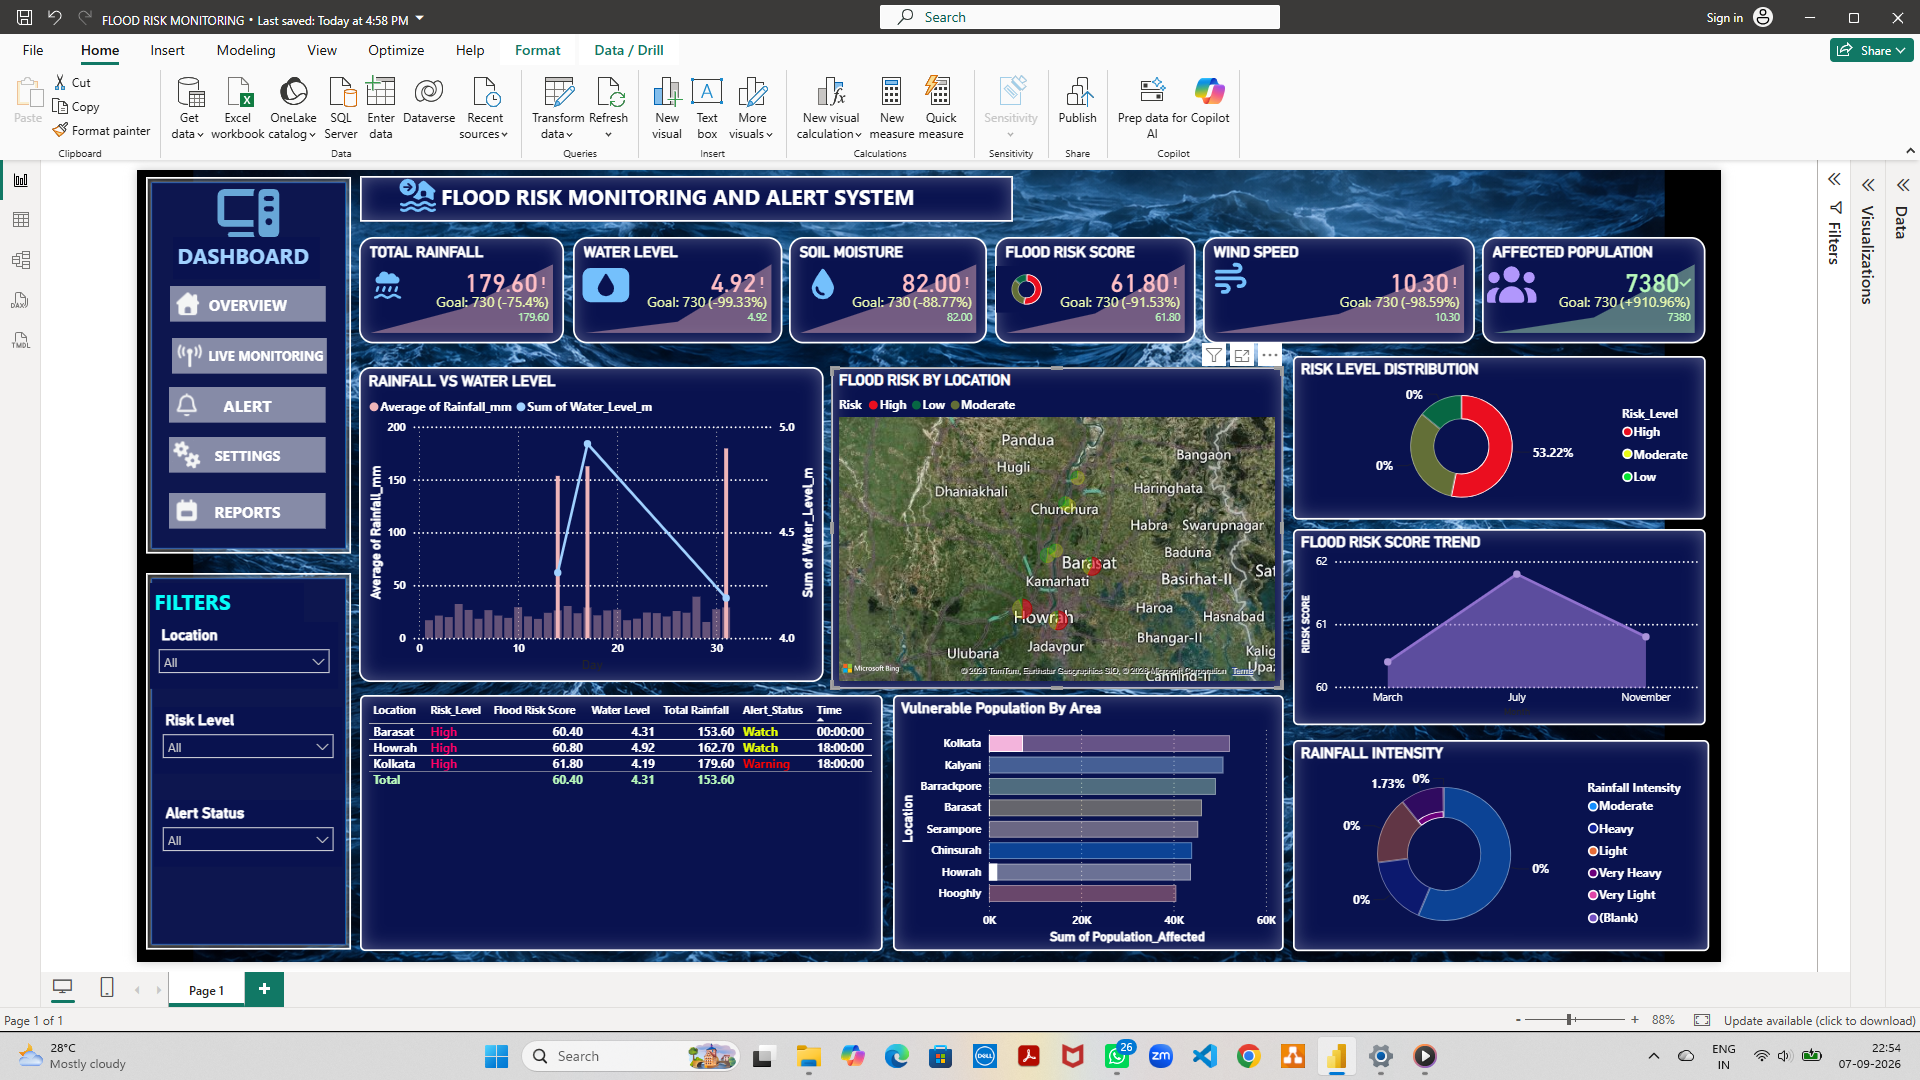

This screenshot's page, from the dashboard's own definition file:
{"tool":"powerbi","page":{"name":"Page 1","canvas":[1800,900],"ordinal":0},"visuals":[{"type":"textbox","box":[253.6,7.1,742.2,52.3],"z":0},{"type":"stackedAreaChart","title":"FLOOD RISK SCORE TREND","fields":{"Category":["Smart_Flood_Risk_Dataset.Date.Variation.Date Hierarchy.Month"],"Y":["Smart_Flood_Risk_Dataset.Flood Risk Score"]},"box":[1313.8,407.5,468.8,222.5],"z":1000},{"type":"donutChart","title":"RISK LEVEL DISTRIBUTION","fields":{"Category":["Smart_Flood_Risk_Dataset.Risk_Level"],"Y":["Smart_Flood_Risk_Dataset.Flood Risk Score"]},"box":[1313.8,211.2,468.8,186.2],"z":2000},{"type":"donutChart","title":"RAINFALL INTENSITY","fields":{"Y":["Sum(Smart_Flood_Risk_Dataset.Rainfall_mm)"],"Category":["Smart_Flood_Risk_Dataset.Rainfall Intensity"]},"box":[1313.8,647.5,472.5,240],"z":3000},{"type":"lineClusteredColumnComboChart","title":"RAINFALL VS WATER LEVEL","fields":{"Y":["Avg(Smart_Flood_Risk_Dataset.Rainfall_mm)"],"Category":["Smart_Flood_Risk_Dataset.Date.Variation.Date Hierarchy.Day"],"Y2":["Sum(Smart_Flood_Risk_Dataset.Water_Level_m)"]},"box":[252.5,223.8,527.5,357.5],"z":4000},{"type":"tableEx","fields":{"Values":["Smart_Flood_Risk_Dataset.Location","Smart_Flood_Risk_Dataset.Risk_Level","Smart_Flood_Risk_Dataset.Flood Risk Score","Smart_Flood_Risk_Dataset.Water Level","Smart_Flood_Risk_Dataset.Total Rainfall","Smart_Flood_Risk_Dataset.Alert_Status","Smart_Flood_Risk_Dataset.Time"]},"box":[253.8,596.2,593.8,291.2],"z":5000},{"type":"barChart","title":"Vulnerable Population By Area","fields":{"Y":["Sum(Smart_Flood_Risk_Dataset.Population_Affected)"],"Category":["Smart_Flood_Risk_Dataset.Location"]},"box":[858.8,596.2,443.8,291.2],"z":6000},{"type":"map","title":"FLOOD RISK BY LOCATION","fields":{"Category":["Smart_Flood_Risk_Dataset.Location"],"Y":["Avg(Smart_Flood_Risk_Dataset.Latitude)"],"X":["Avg(Smart_Flood_Risk_Dataset.Longitude)"],"Series":["Smart_Flood_Risk_Dataset.Risk_Level"],"Size":["Smart_Flood_Risk_Dataset.Flood Risk Score"]},"box":[788.8,223.8,513.8,366.2],"z":7000},{"type":"kpi","title":"TOTAL RAINFALL","fields":{"Indicator":["Sum(Smart_Flood_Risk_Dataset.Rainfall_mm)"],"TrendLine":["Smart_Flood_Risk_Dataset.Rainfall_mm"],"Goal":["CountNonNull(Smart_Flood_Risk_Dataset.Date.Variation.Date Hierarchy.Day)"]},"box":[252.5,76.2,232.5,121.2],"z":8000},{"type":"kpi","title":"WATER LEVEL ","fields":{"Indicator":["Avg(Smart_Flood_Risk_Dataset.Water_Level_m)"],"TrendLine":["Smart_Flood_Risk_Dataset.Water_Level_m"],"Goal":["CountNonNull(Smart_Flood_Risk_Dataset.Date.Variation.Date Hierarchy.Day)"]},"box":[495,76.2,237.5,121.2],"z":9000},{"type":"kpi","title":"SOIL MOISTURE","fields":{"Indicator":["Avg(Smart_Flood_Risk_Dataset.Soil_Moisture_pct)"],"TrendLine":["Smart_Flood_Risk_Dataset.Soil_Moisture_pct"],"Goal":["CountNonNull(Smart_Flood_Risk_Dataset.Date.Variation.Date Hierarchy.Day)"]},"box":[741.2,76.2,225,121.2],"z":10000},{"type":"kpi","title":"FLOOD RISK SCORE","fields":{"Indicator":["Sum(Smart_Flood_Risk_Dataset.Flood_Risk_Score)"],"Goal":["CountNonNull(Smart_Flood_Risk_Dataset.Date.Variation.Date Hierarchy.Day)"],"TrendLine":["Smart_Flood_Risk_Dataset.Flood_Risk_Score"]},"box":[975,76.2,227.5,121.2],"z":11000},{"type":"kpi","title":"WIND SPEED","fields":{"Indicator":["Sum(Smart_Flood_Risk_Dataset.Wind_Speed_kmh)"],"TrendLine":["Smart_Flood_Risk_Dataset.Wind_Speed_kmh"],"Goal":["CountNonNull(Smart_Flood_Risk_Dataset.Date.Variation.Date Hierarchy.Day)"]},"box":[1211.2,76.2,308.8,121.2],"z":12000},{"type":"kpi","title":"AFFECTED POPULATION","fields":{"Indicator":["Sum(Smart_Flood_Risk_Dataset.Population_Affected)"],"TrendLine":["Smart_Flood_Risk_Dataset.Population_Affected"],"Goal":["CountNonNull(Smart_Flood_Risk_Dataset.Date.Variation.Date Hierarchy.Day)"]},"box":[1528.8,76.2,253.8,121.2],"z":13000},{"type":"shape","box":[9.9,7.4,233.3,428.4],"z":14000},{"type":"shape","box":[9.9,458,233.3,428.4],"z":15000},{"type":"image","box":[87.7,0,77.8,97.5],"z":16000},{"type":"textbox","box":[40.7,76.5,166.7,48.1],"z":17000},{"type":"textbox","box":[15.2,469.6,174.7,49.4],"z":18000},{"type":"slicer","fields":{"Values":["Smart_Flood_Risk_Dataset.Location"]},"box":[15.2,513.9,213.9,75.9],"z":19000},{"type":"slicer","fields":{"Values":["Smart_Flood_Risk_Dataset.Risk_Level"]},"box":[19,610.1,213.9,75.9],"z":20000},{"type":"slicer","fields":{"Values":["Smart_Flood_Risk_Dataset.Alert_Status"]},"box":[19,716.5,213.9,75.9],"z":21000},{"type":"image","box":[284.8,7.6,68.4,41.8],"z":22000},{"type":"image","box":[753.2,108.9,51.9,41.8],"z":23000},{"type":"image","box":[503.8,84.8,59.5,93.7],"z":24000},{"type":"image","box":[251.9,111.4,64.6,39.2],"z":25000},{"type":"image","box":[1202.5,101.3,81,44.3],"z":26000},{"type":"donutChart","title":"RISK LEVEL DISTRIBUTION","fields":{"Category":["Smart_Flood_Risk_Dataset.Risk_Level"],"Y":["Smart_Flood_Risk_Dataset.Flood Risk Score"]},"box":[975.9,108.9,69.6,53.2],"z":27000},{"type":"image","box":[1529.1,102.5,64.6,57],"z":28000},{"type":"actionButton","box":[38,131.6,177.2,40.5],"z":29000},{"type":"actionButton","box":[39.2,191.1,175.9,40.5],"z":30000},{"type":"actionButton","box":[36.7,246.8,178.5,40.5],"z":31000},{"type":"actionButton","box":[36.7,303.8,178.5,40.5],"z":32000},{"type":"actionButton","box":[36.7,367.1,178.5,40.5],"z":33000}]}

Visuals, with their boxes on the page's 1800x900 design canvas (x1, y1, x2, y2). These are canvas units, not pixel positions in the 1920x1080 screenshot, which may show the page scaled, cropped or inside an application window:
textbox: 254:7:996:59
"FLOOD RISK SCORE TREND" stackedAreaChart: 1314:408:1783:630
"RISK LEVEL DISTRIBUTION" donutChart: 1314:211:1783:397
"RAINFALL INTENSITY" donutChart: 1314:648:1786:888
"RAINFALL VS WATER LEVEL" lineClusteredColumnComboChart: 252:224:780:581
tableEx - Smart_Flood_Risk_Dataset.Location x Smart_Flood_Risk_Dataset.Risk_Level: 254:596:848:887
"Vulnerable Population By Area" barChart: 859:596:1303:887
"FLOOD RISK BY LOCATION" map: 789:224:1303:590
"TOTAL RAINFALL" kpi: 252:76:485:197
"WATER LEVEL " kpi: 495:76:732:197
"SOIL MOISTURE" kpi: 741:76:966:197
"FLOOD RISK SCORE" kpi: 975:76:1202:197
"WIND SPEED" kpi: 1211:76:1520:197
"AFFECTED POPULATION" kpi: 1529:76:1783:197
shape: 10:7:243:436
shape: 10:458:243:886
image: 88:0:166:98
textbox: 41:76:207:125
textbox: 15:470:190:519
slicer - Smart_Flood_Risk_Dataset.Location: 15:514:229:590
slicer - Smart_Flood_Risk_Dataset.Risk_Level: 19:610:233:686
slicer - Smart_Flood_Risk_Dataset.Alert_Status: 19:716:233:792
image: 285:8:353:49
image: 753:109:805:151
image: 504:85:563:178
image: 252:111:316:151
image: 1202:101:1284:146
"RISK LEVEL DISTRIBUTION" donutChart: 976:109:1046:162
image: 1529:102:1594:160
actionButton: 38:132:215:172
actionButton: 39:191:215:232
actionButton: 37:247:215:287
actionButton: 37:304:215:344
actionButton: 37:367:215:408
